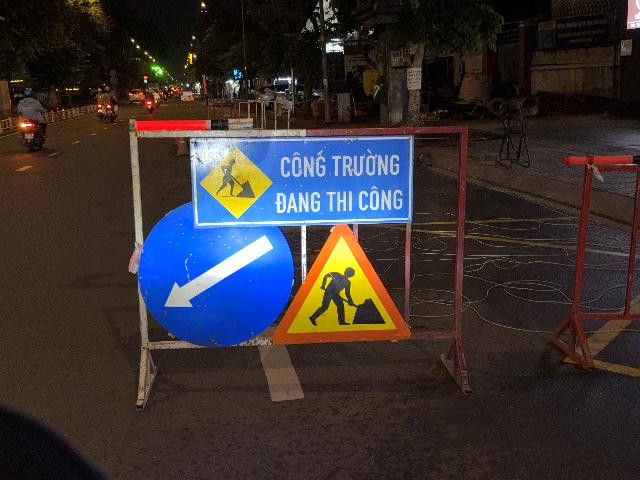cong-truong-dang-thi-cong: (273, 225, 412, 343)
huong-phai-di-vong-chuong-ngai-vat: (137, 202, 294, 346)
